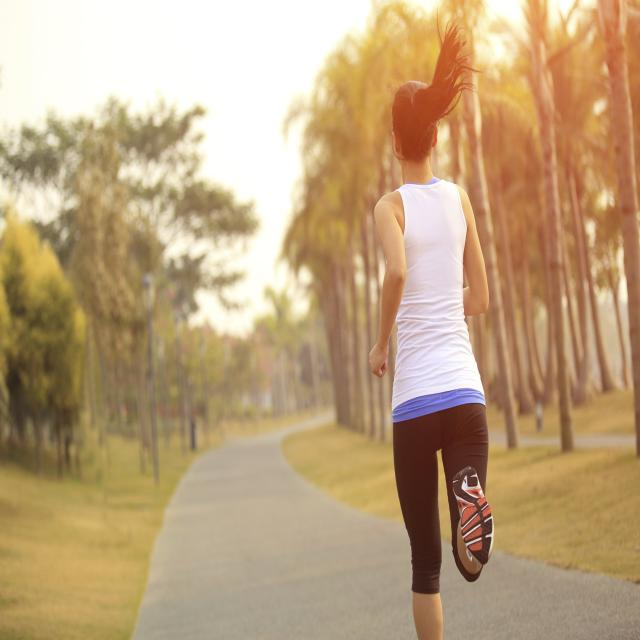Person: (369, 14, 495, 640)
